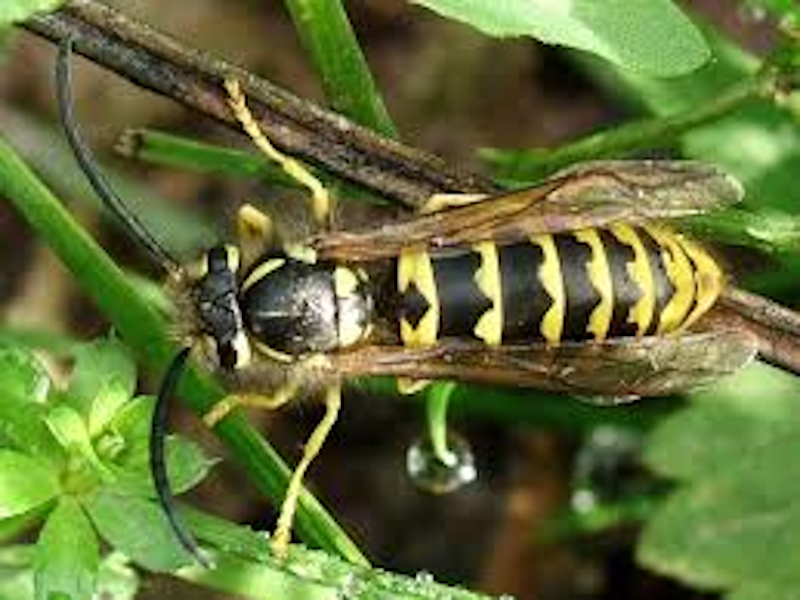chax: (41, 29, 761, 557)
